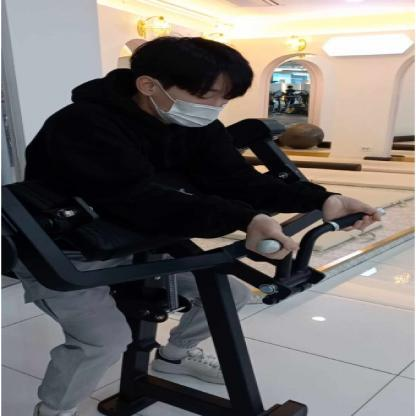arm curl machine: (0, 180, 386, 416)
